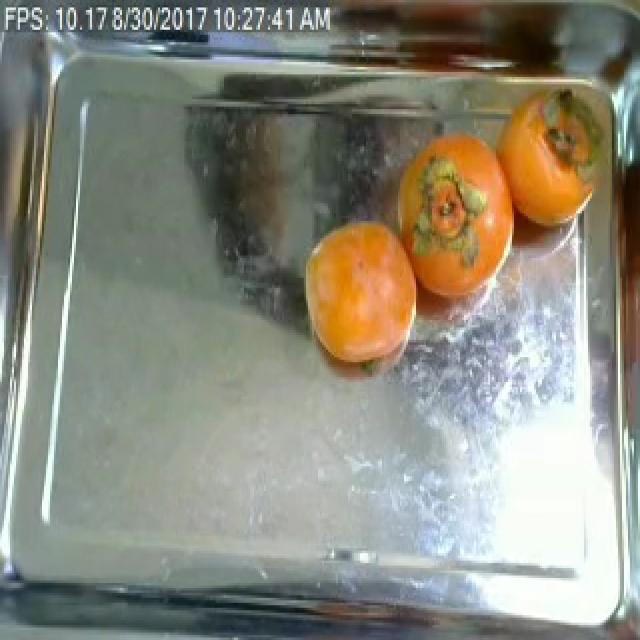Fruit: (206, 94, 376, 288), (292, 203, 430, 384)
